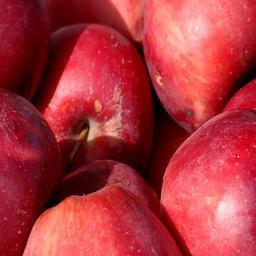apple: (34, 23, 154, 170), (145, 1, 256, 132), (160, 110, 256, 256), (23, 187, 183, 256)
